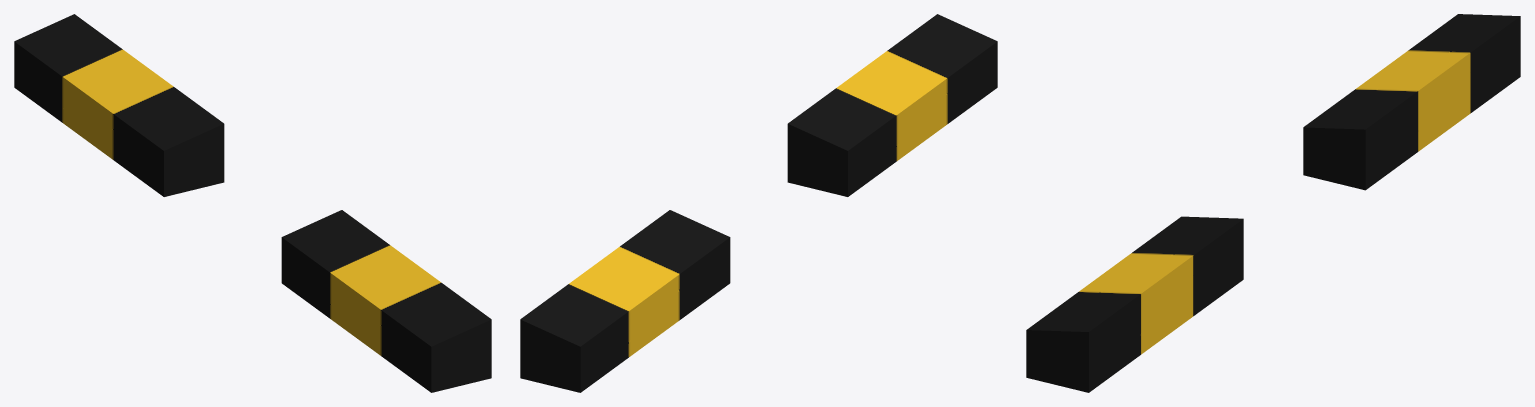
The model's file is parkingBlock.fbx.
3 renders of one model, left to right at view 1: azimuth 30°, elevation 25°; view 2: azimuth 150°, elevation 25°; view 3: azimuth 330°, elevation 25°, orthographic. The views are drawn at different scales.
Parts seen in each view (by area): view 1: Box009, Box008; view 2: Box008, Box009; view 3: Box009, Box008.
Part boxes in pixels (x1=…): Box009: x1=14, y1=14, x2=224, y2=196; Box008: x1=281, y1=210, x2=491, y2=392; Box008: x1=787, y1=14, x2=997, y2=196; Box009: x1=520, y1=210, x2=730, y2=392; Box009: x1=1303, y1=14, x2=1520, y2=190; Box008: x1=1026, y1=216, x2=1243, y2=392.
Size of the model in its own units: 3.84 by 3.58 by 46.04.
Materials: 1 (1 with a texture image).
